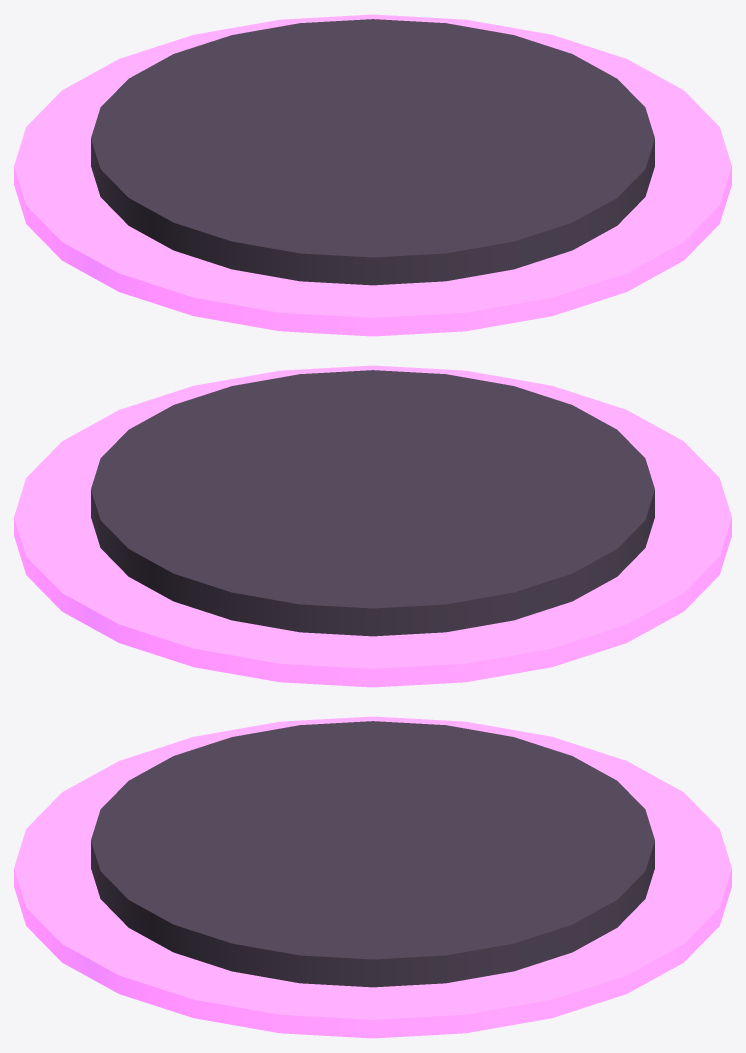
File: gs_trap.gltf
The picture shows the model from 3 angles, top to bottom: view 1: azimuth 30°, elevation 25°; view 2: azimuth 150°, elevation 25°; view 3: azimuth 270°, elevation 25°; orthographic projection.
Visible parts, largest first — view 1: gs_trap; view 2: gs_trap; view 3: gs_trap.
Part boxes in pixels (<box>): gs_trap: <box>14,14,731,336</box>; gs_trap: <box>14,365,731,687</box>; gs_trap: <box>14,716,731,1038</box>.
Bounding box in the file's own units: 1.4 × 0.1 × 1.4.
